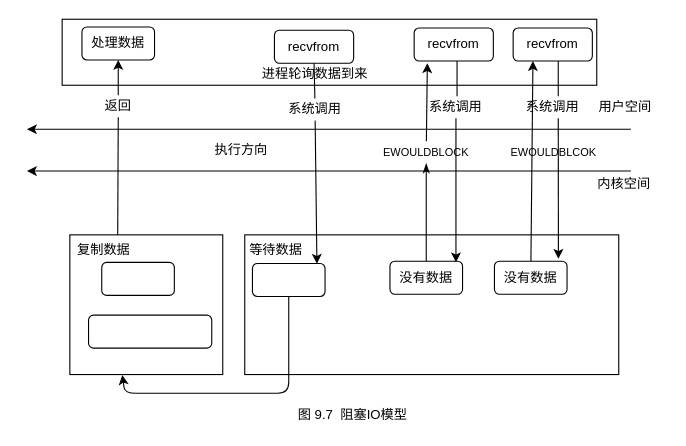
Image size: 686x446. Some labels were removed from this diagram. Here are the shapes that lost their labels. From the top down, the centre of each, then its label:
[137,278]: 复制完成
[288,279]: 数据到来
[149,331]: 复制数据到用户空间
